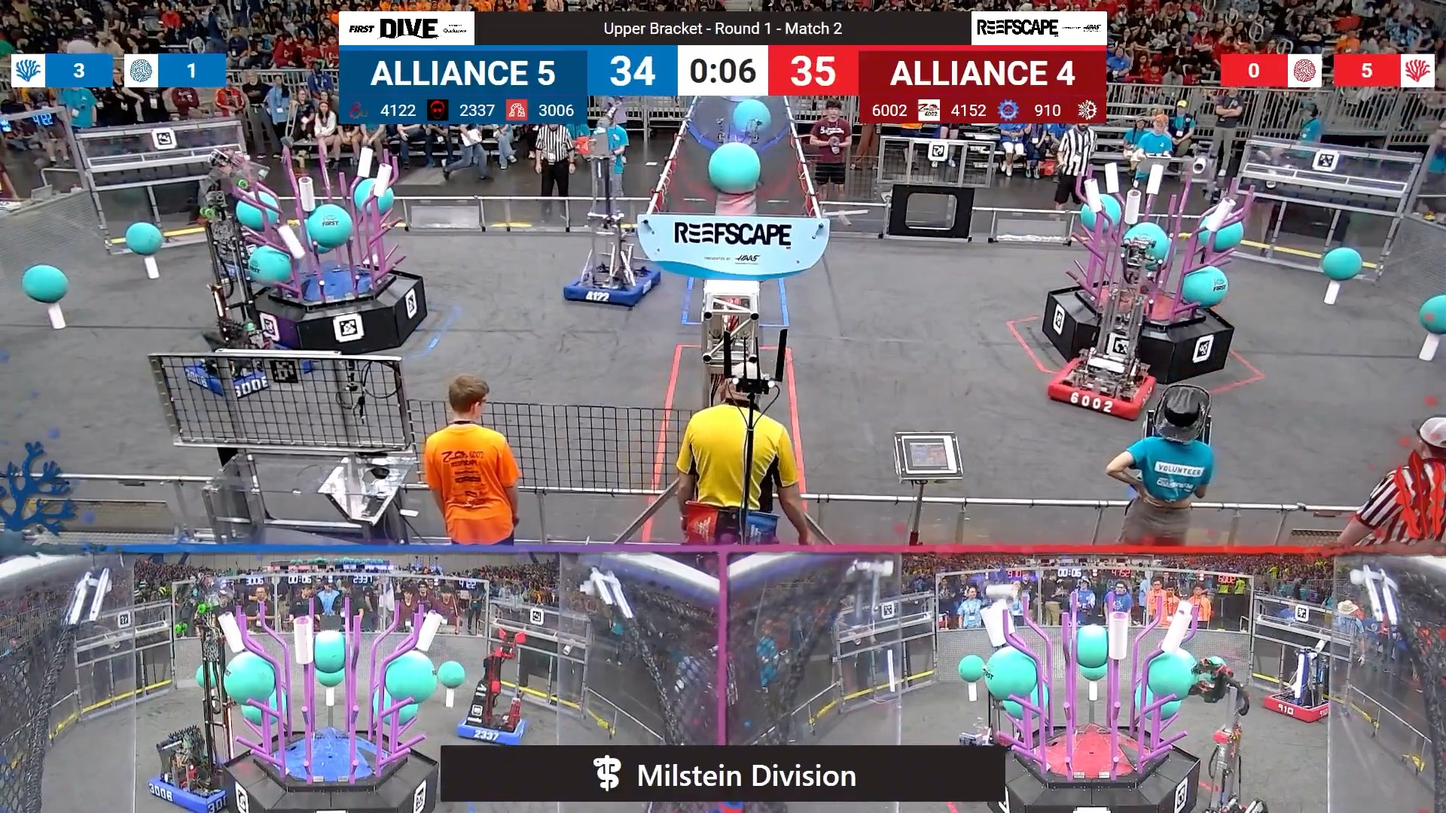bumpers: (1039, 354, 1165, 425), (177, 348, 307, 401), (144, 760, 249, 812), (560, 260, 668, 310), (449, 705, 533, 748), (1254, 691, 1341, 726)
